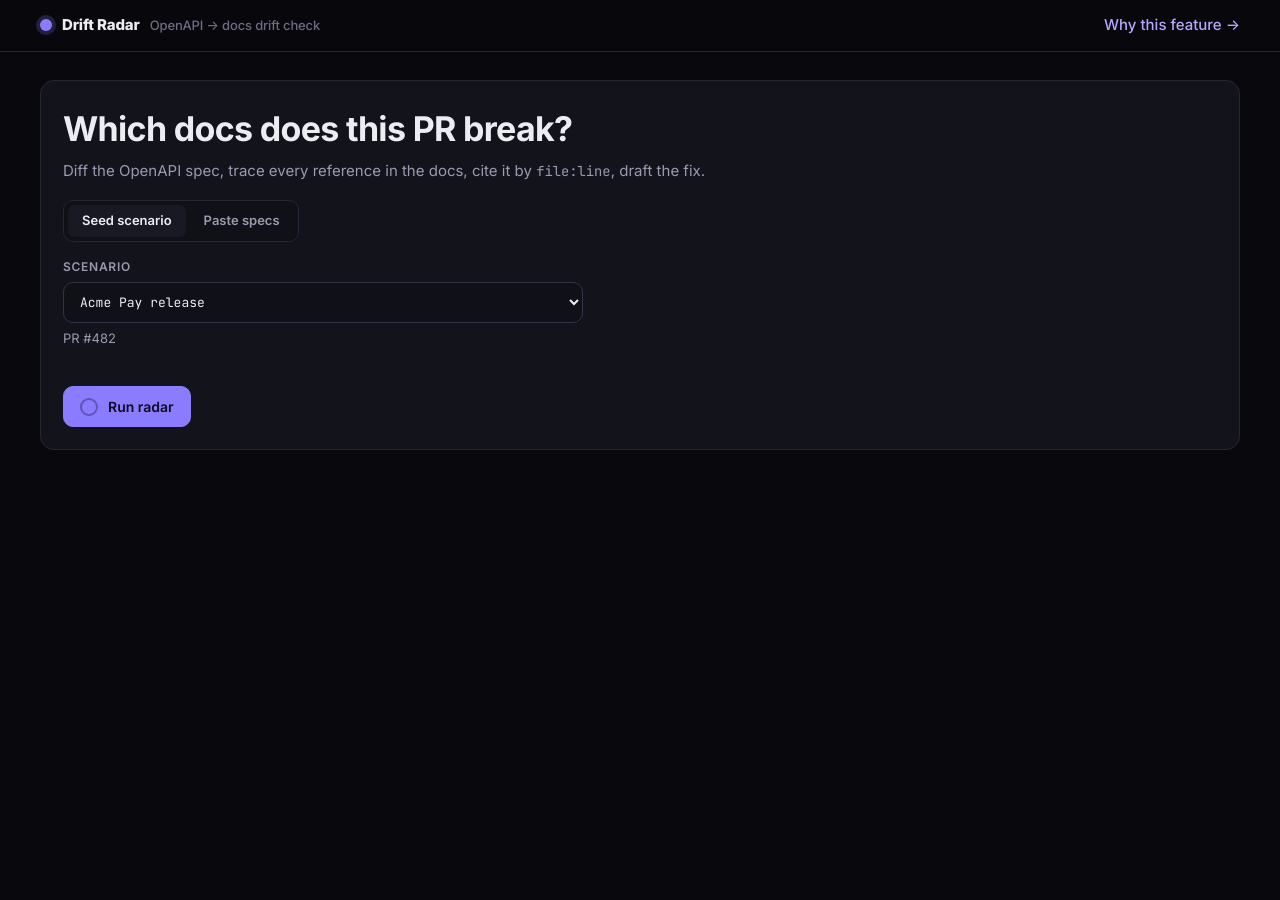
Test case: Radar page › runs the radar on a scenario and shows ranked impacts
Click the button "Run radar": (127, 406) x1=63 y1=386 x2=191 y2=427
(page scrolled)
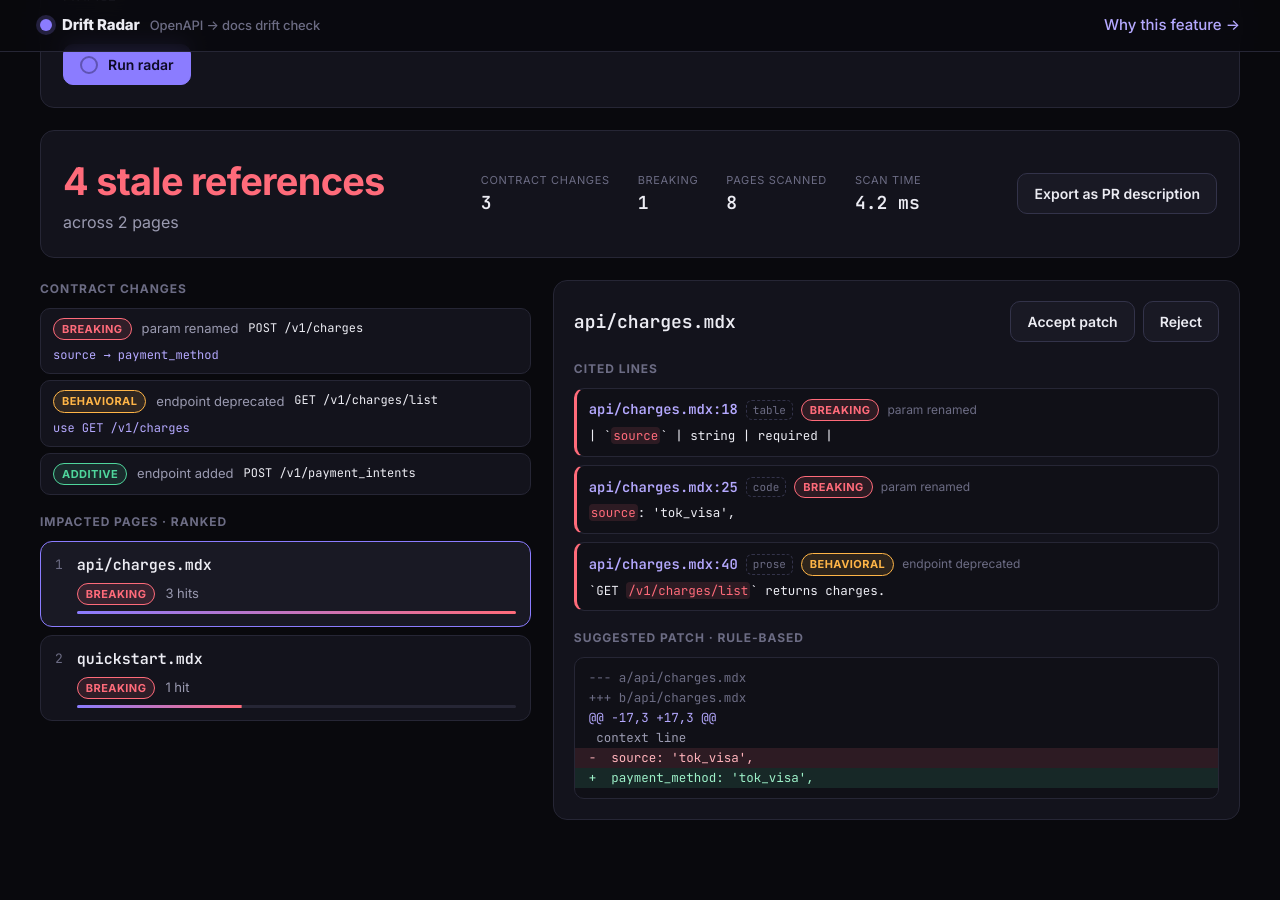
Now the text "4 stale references" is shown, box x1=63 y1=153 x2=385 y2=210
Now the text "across 2 pages" is shown, box x1=63 y1=212 x2=179 y2=232
Now the text "api/charges.mdx:18" is shown, box x1=589 y1=399 x2=738 y2=420
